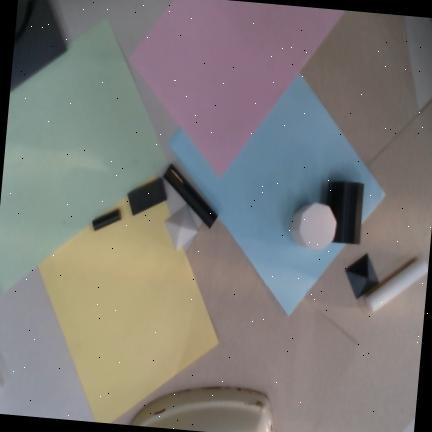Cilindro: (163, 163, 218, 230), (365, 257, 429, 314), (92, 208, 122, 231)
Paralelepipedo: (127, 178, 167, 216)
Piramide: (164, 204, 200, 251), (344, 253, 379, 299)
Prisma_hexagonal: (327, 181, 364, 245), (289, 202, 337, 250)
